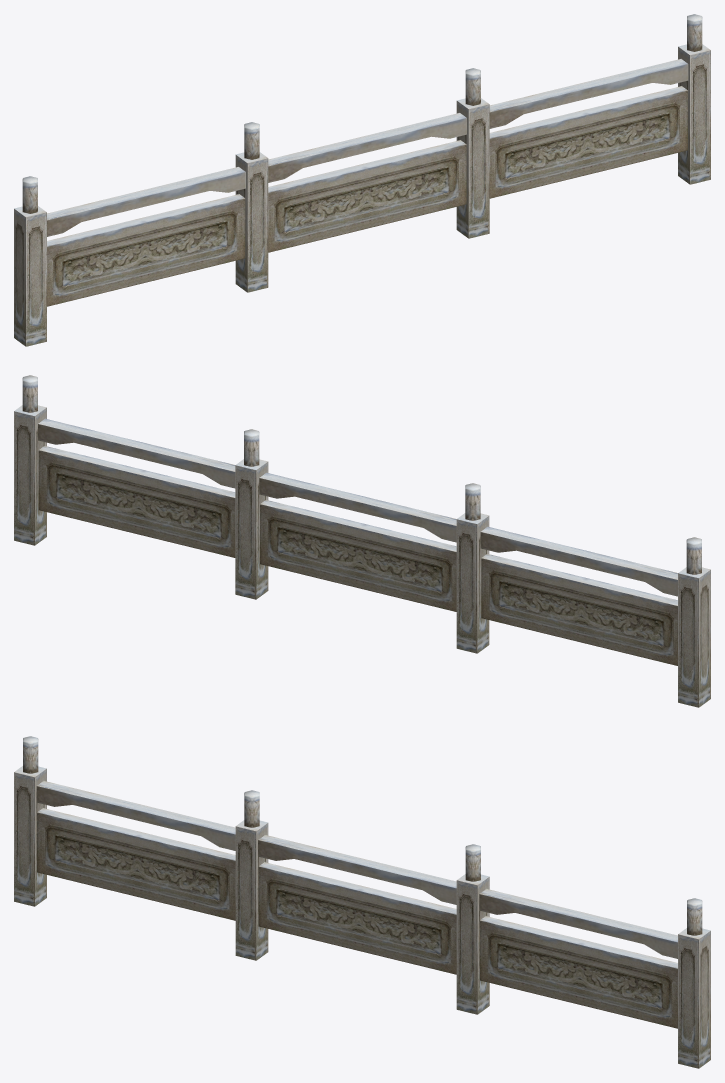
The model's file is jz_langan_02.FBX.
3 renders of one model, top to bottom at view 1: azimuth 30°, elevation 25°; view 2: azimuth 150°, elevation 25°; view 3: azimuth 330°, elevation 25°, orthographic.
Visible parts, largest first — view 1: jz_langan_02; view 2: jz_langan_02; view 3: jz_langan_02.
Boxes of the visible parts, x1,y1,x2,y2 form: jz_langan_02: [14, 14, 710, 346]; jz_langan_02: [14, 375, 710, 707]; jz_langan_02: [14, 736, 710, 1068].
Size of the model in its own units: 580 by 130 by 17.68.
